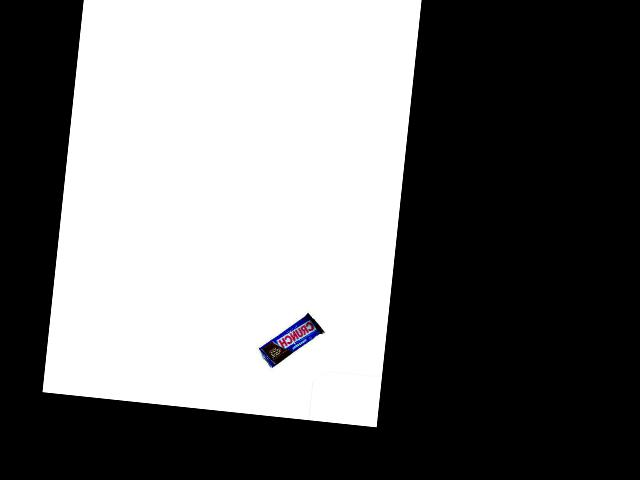chocolate: (255, 307, 327, 374)
